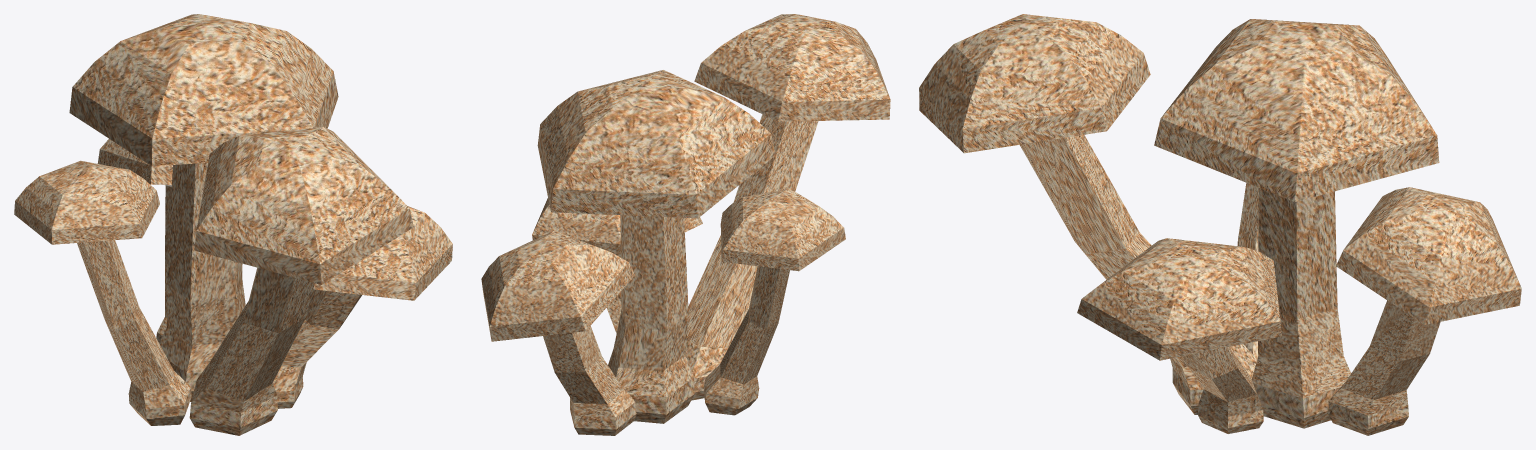
The model's file is low-poly-shroom-cluster.obj.
3 renders of one model, left to right at view 1: azimuth 30°, elevation 25°; view 2: azimuth 150°, elevation 25°; view 3: azimuth 270°, elevation 25°, orthographic. The views are drawn at different scales.
Visible parts, largest first — view 1: Sphere.003, Sphere.001_Sphere.006, Sphere.004_Sphere.008, Sphere.002_Sphere.007, Sphere.000_Sphere.005; view 2: Sphere.003, Sphere.001_Sphere.006, Sphere.000_Sphere.005, Sphere.004_Sphere.008, Sphere.002_Sphere.007; view 3: Sphere.003, Sphere.001_Sphere.006, Sphere.000_Sphere.005, Sphere.002_Sphere.007, Sphere.004_Sphere.008.
Part boxes in pixels (x1,y1,x2,y2): Sphere.003: (69,14,338,401); Sphere.001_Sphere.006: (189,127,413,435); Sphere.004_Sphere.008: (14,160,191,425); Sphere.002_Sphere.007: (272,206,452,408); Sphere.000_Sphere.005: (97,139,172,342); Sphere.003: (537,70,775,423); Sphere.001_Sphere.006: (685,14,890,400); Sphere.000_Sphere.005: (481,230,636,435); Sphere.004_Sphere.008: (703,188,845,415); Sphere.002_Sphere.007: (532,198,702,333); Sphere.003: (1154,19,1439,428); Sphere.001_Sphere.006: (919,14,1257,414); Sphere.000_Sphere.005: (1328,187,1521,435); Sphere.002_Sphere.007: (1077,238,1281,433); Sphere.004_Sphere.008: (1237,183,1258,358).
Size of the model in its own units: 3.35 by 3.15 by 4.59.
